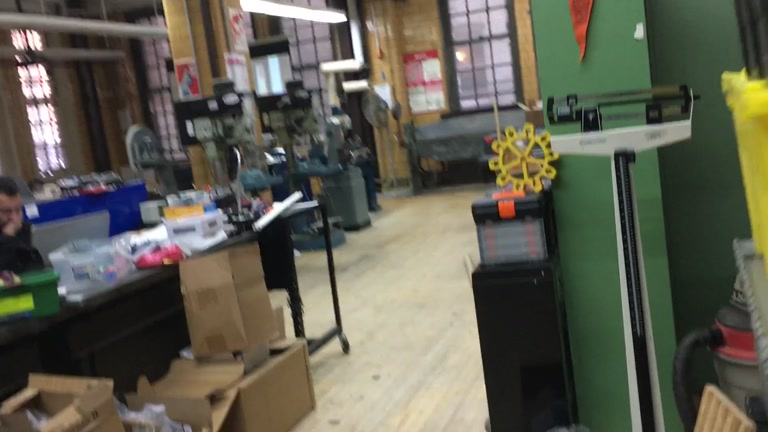gear: (487, 122, 561, 196)
